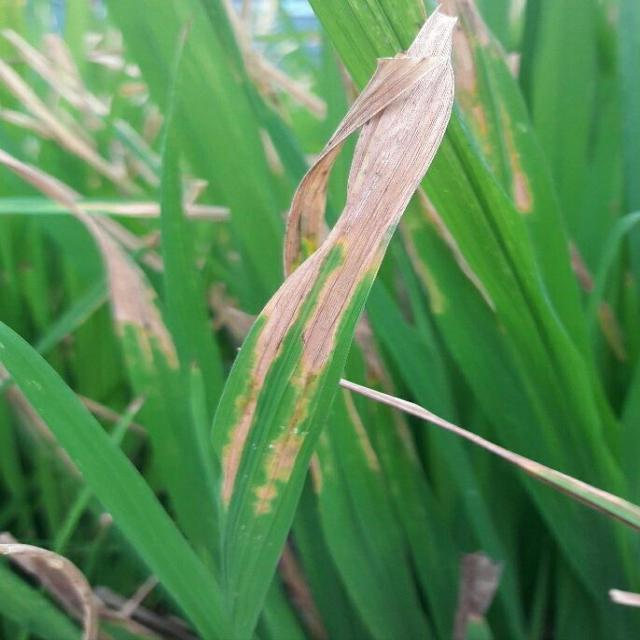blight: (218, 323, 354, 512)
